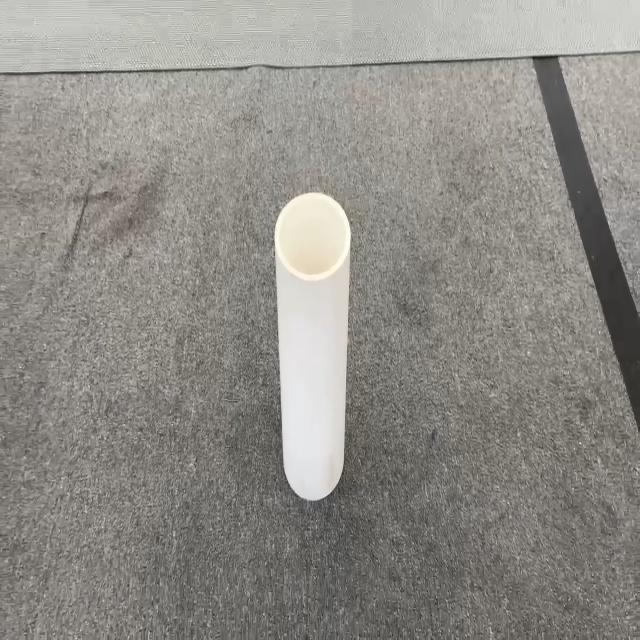coral: (274, 190, 352, 500)
